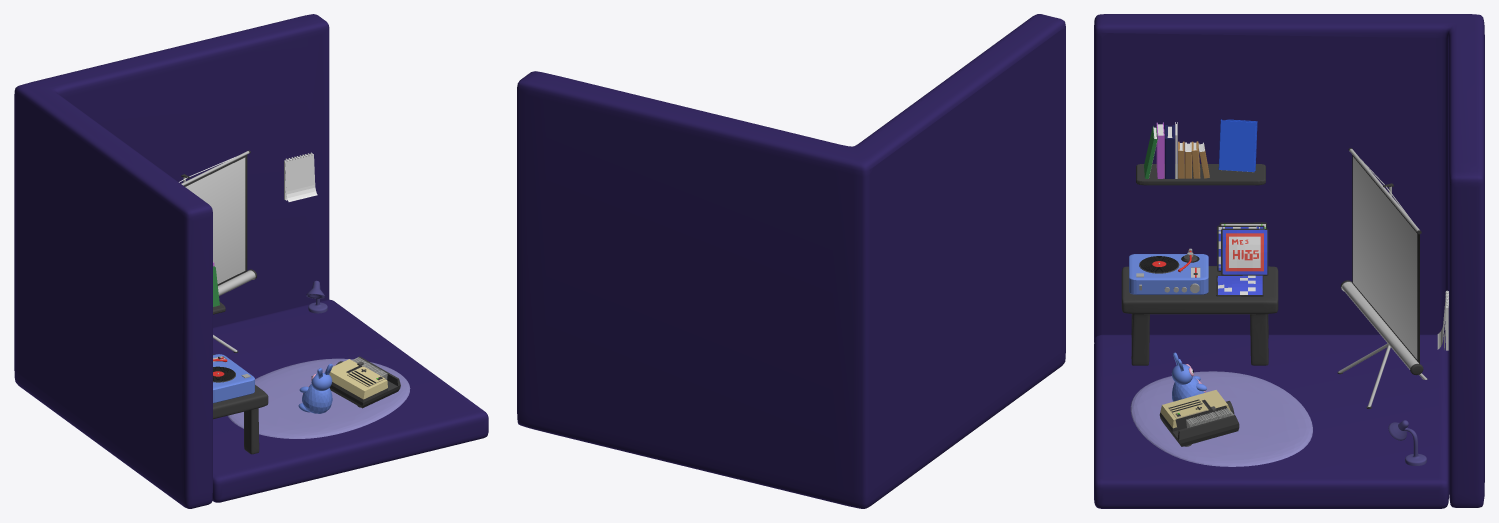
File: projection_room_1.glb
The picture shows the model from 3 angles, left to right: view 1: azimuth 30°, elevation 25°; view 2: azimuth 150°, elevation 25°; view 3: azimuth 270°, elevation 25°; orthographic projection. The views are drawn at different scales.
Visible parts, largest first — view 1: walls, floor, rug, screen, projector, table, turntable, calendar, rabbit; view 2: walls; view 3: walls, floor, screen, rug, bookshelf, table, turntable, projector, record_2, record_3, rabbit, lamp.
Boxes of the visible parts, bbox=[...] form: walls: bbox=[14, 14, 329, 508]; floor: bbox=[212, 299, 488, 502]; rug: bbox=[228, 358, 410, 438]; screen: bbox=[179, 150, 256, 352]; projector: bbox=[329, 356, 400, 408]; table: bbox=[213, 354, 268, 454]; turntable: bbox=[213, 354, 254, 403]; calendar: bbox=[284, 152, 317, 201]; rabbit: bbox=[298, 363, 332, 413]; walls: bbox=[517, 14, 1065, 508]; walls: bbox=[1094, 14, 1484, 507]; floor: bbox=[1094, 334, 1448, 508]; screen: bbox=[1337, 148, 1427, 408]; rug: bbox=[1130, 371, 1312, 466]; bookshelf: bbox=[1136, 119, 1265, 185]; table: bbox=[1121, 266, 1278, 365]; turntable: bbox=[1129, 248, 1208, 294]; projector: bbox=[1159, 390, 1239, 446]; record_2: bbox=[1221, 228, 1268, 275]; record_3: bbox=[1216, 275, 1263, 296]; rabbit: bbox=[1171, 352, 1206, 401]; lamp: bbox=[1388, 420, 1426, 465].
Bounding box in the file's own units: 3.3 × 3.12 × 3.3.
